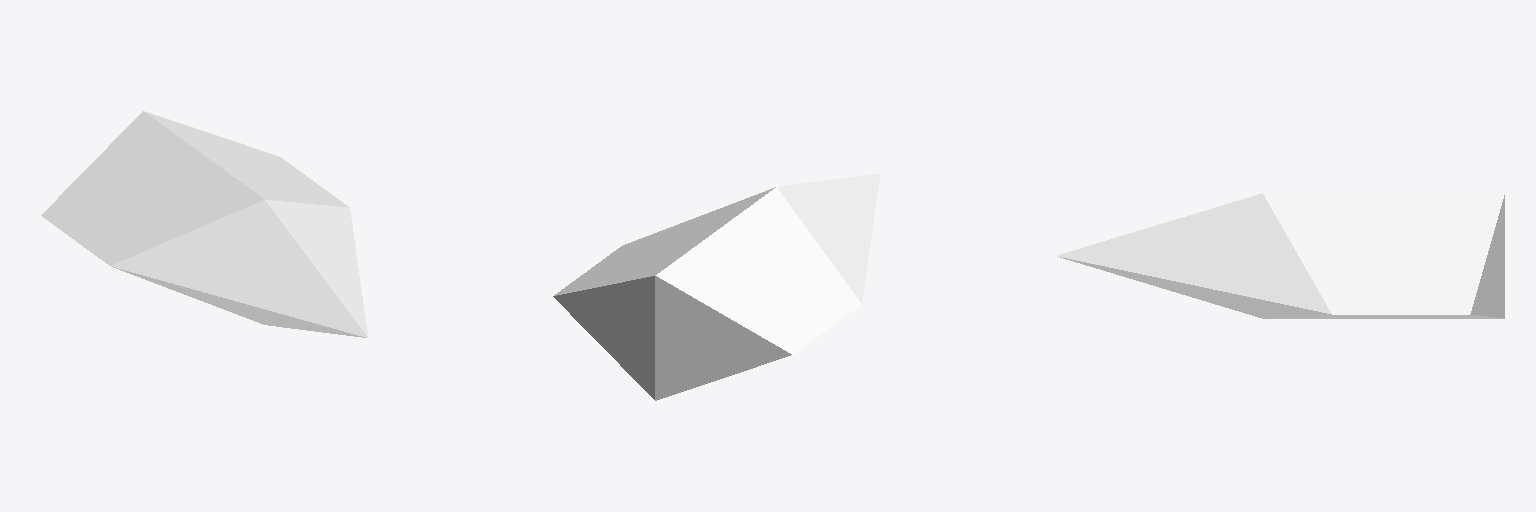
The model's file is griff_arcelite_iguana.obj.
3 views of the same model, side by side, from view 1: azimuth 30°, elevation 25°; view 2: azimuth 150°, elevation 25°; view 3: azimuth 270°, elevation 25° (orthographic).
Parts seen in each view (by area): view 1: griff_arcelite_iguana; view 2: griff_arcelite_iguana; view 3: griff_arcelite_iguana.
Part boxes in pixels (left/top/right/bottom): griff_arcelite_iguana: left=41, top=111, right=367, bottom=337; griff_arcelite_iguana: left=553, top=174, right=879, bottom=400; griff_arcelite_iguana: left=1057, top=193, right=1504, bottom=318.
Bounding box in the file's own units: 97.6 × 48.8 × 159.